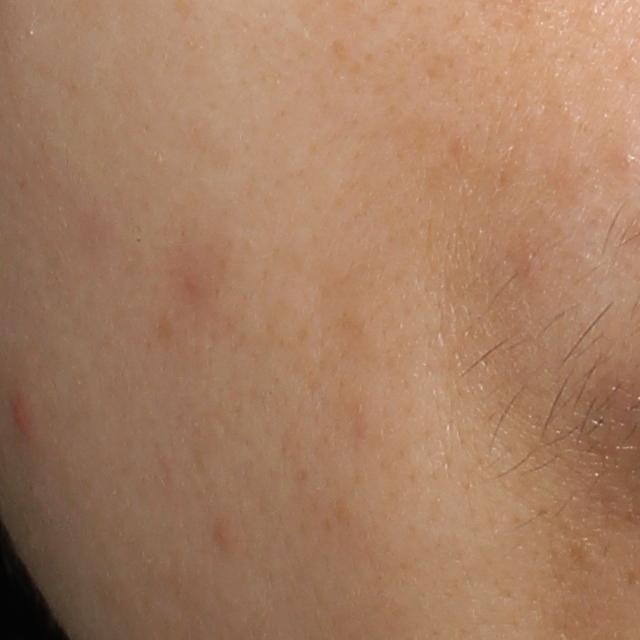papule: (10, 397, 35, 439)
